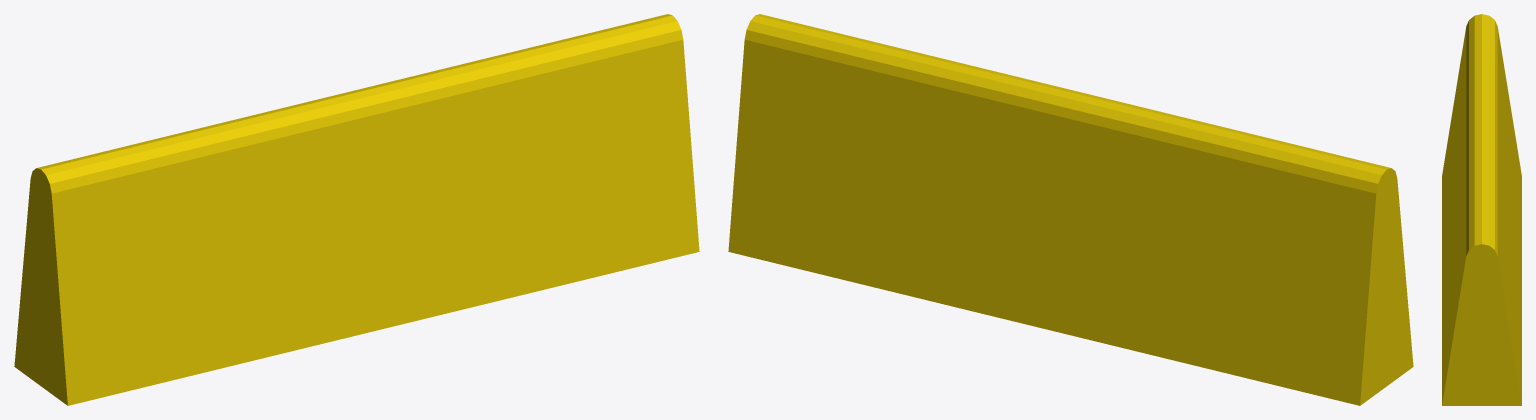
The model's file is Ground_Item_1.fbx.
The picture shows the model from 3 angles, left to right: view 1: azimuth 30°, elevation 25°; view 2: azimuth 150°, elevation 25°; view 3: azimuth 270°, elevation 25°; orthographic projection. The views are drawn at different scales.
Visible parts, largest first — view 1: pCube9; view 2: pCube9; view 3: pCube9.
Boxes of the visible parts, box(x1,y1,x2,y2) form: pCube9: box(14, 14, 699, 405); pCube9: box(728, 14, 1413, 405); pCube9: box(1442, 14, 1521, 405).
Size of the model in its own units: 10.84 by 3.56 by 1.59.
